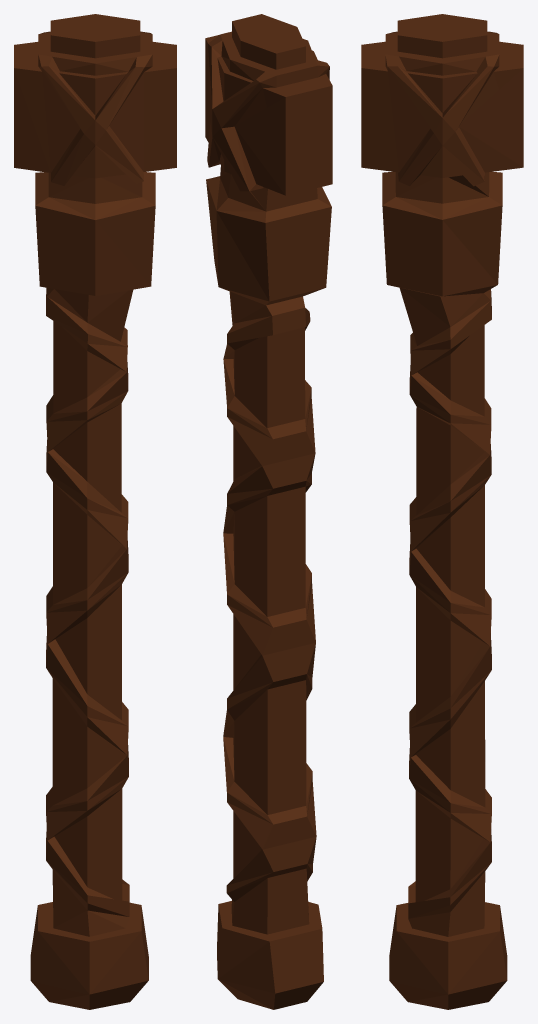
Rendered from brokenAxe.fbx.
3 renders of one model, left to right at view 1: azimuth 90°, elevation 25°; view 2: azimuth 210°, elevation 25°; view 3: azimuth 270°, elevation 25°, orthographic.
Visible parts, largest first — view 1: SM_Wep_Axe_01.001; view 2: SM_Wep_Axe_01.001; view 3: SM_Wep_Axe_01.001.
Boxes of the visible parts, x1,y1,x2,y2 form: SM_Wep_Axe_01.001: [14, 14, 176, 1009]; SM_Wep_Axe_01.001: [205, 14, 332, 1009]; SM_Wep_Axe_01.001: [361, 14, 523, 1009].
Size of the model in its own units: 8.82 by 71.17 by 10.86.
